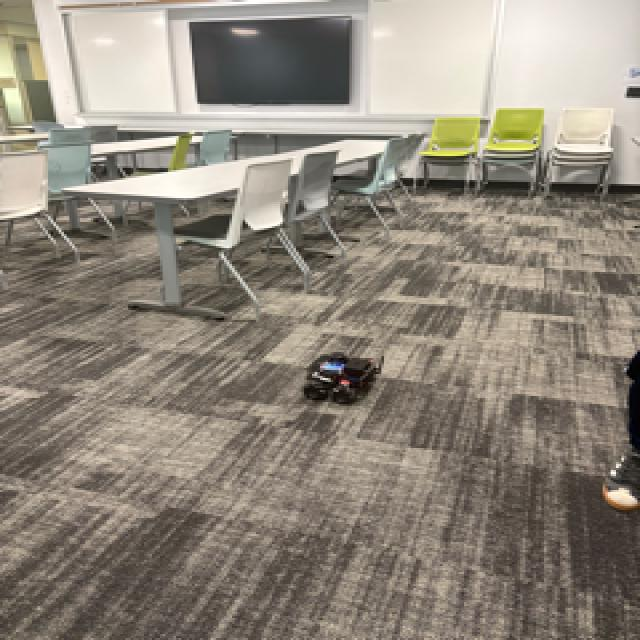ArduinoCar3: (308, 347, 386, 406)
